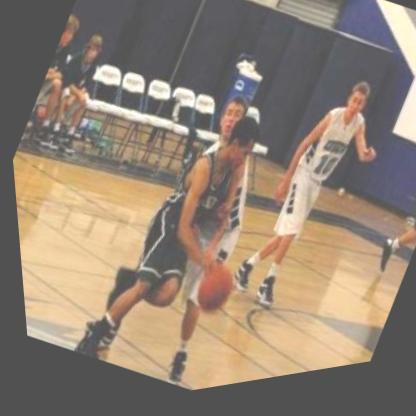basketball: (182, 262, 239, 329)
